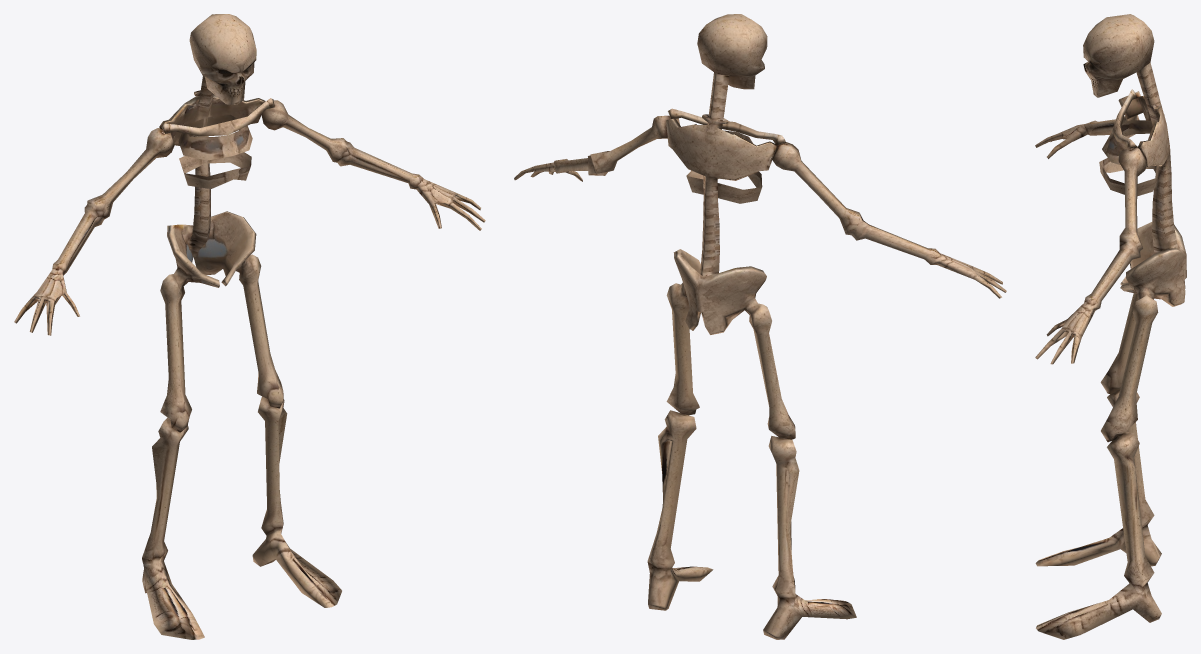
Rendered from undead.glb.
3 views of the same model, side by side, from view 1: azimuth 30°, elevation 25°; view 2: azimuth 150°, elevation 25°; view 3: azimuth 270°, elevation 25° (orthographic). The views are drawn at different scales.
Visible parts, largest first — view 1: tripo_node_50aadc1f; view 2: tripo_node_50aadc1f; view 3: tripo_node_50aadc1f.
Boxes of the visible parts, bbox=[...] form: tripo_node_50aadc1f: bbox=[14, 14, 485, 639]; tripo_node_50aadc1f: bbox=[514, 14, 1006, 639]; tripo_node_50aadc1f: bbox=[1035, 14, 1186, 639].
Size of the model in its own units: 4.26 by 5 by 1.19.
Materials: 1 (1 with a texture image).
